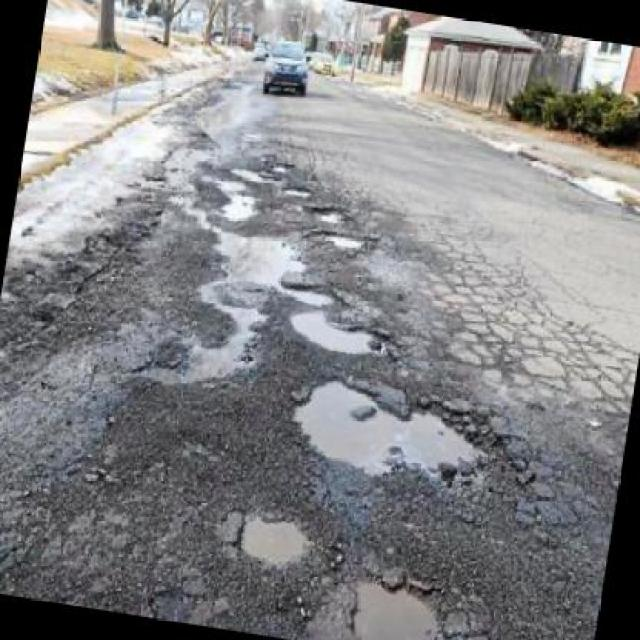pothole1: (280, 366, 497, 491), (335, 562, 454, 638), (282, 300, 395, 357), (232, 504, 313, 567), (314, 222, 374, 253), (278, 278, 336, 302), (308, 198, 349, 225), (278, 179, 313, 198)
